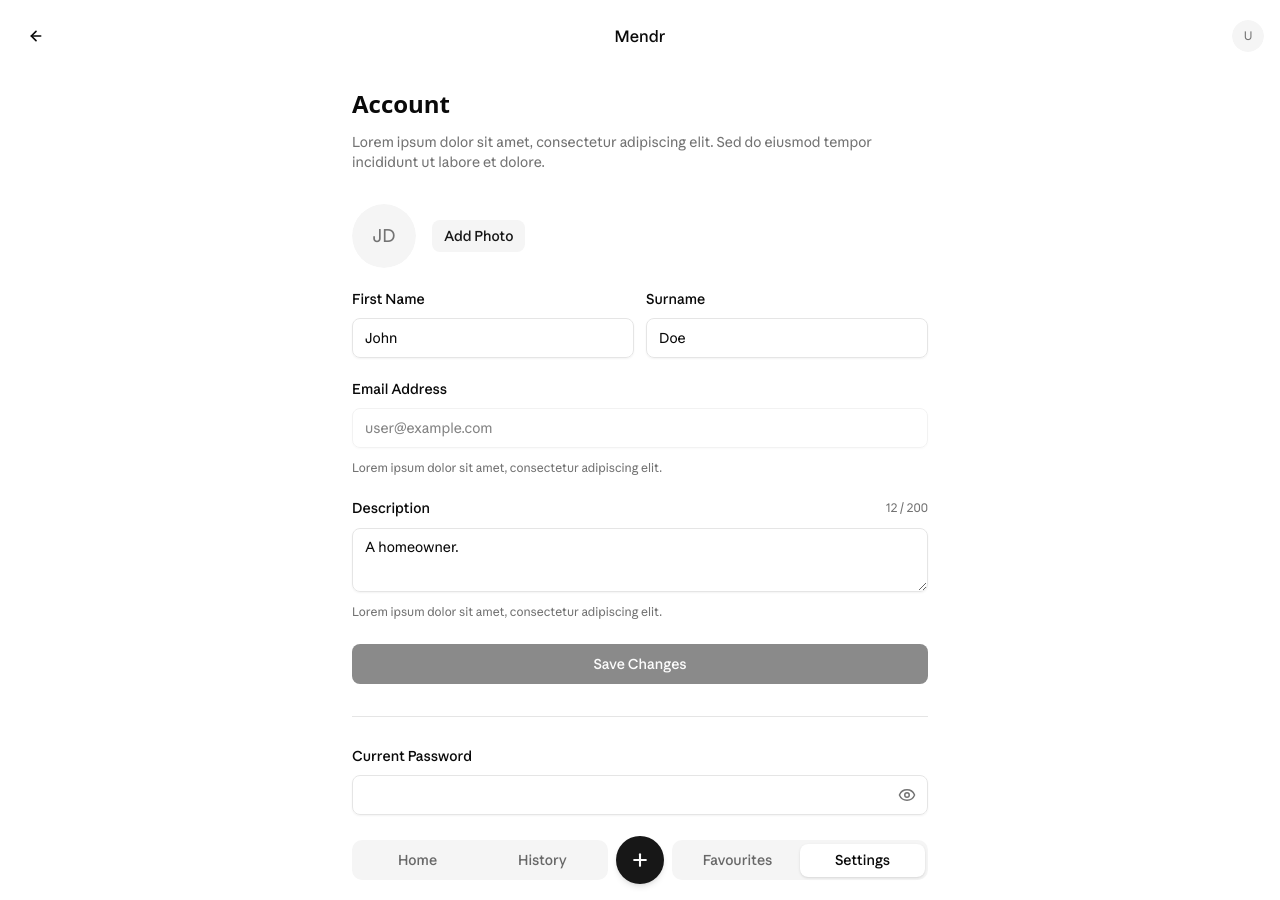
Scenario: settings/account/client.tsx › "Change Password" button is enabled when all password fields valid
Type "OldPass123" into the password field labelled "Current Password" at (640, 795), box x1=352 y1=775 x2=928 y2=815
(page scrolled)
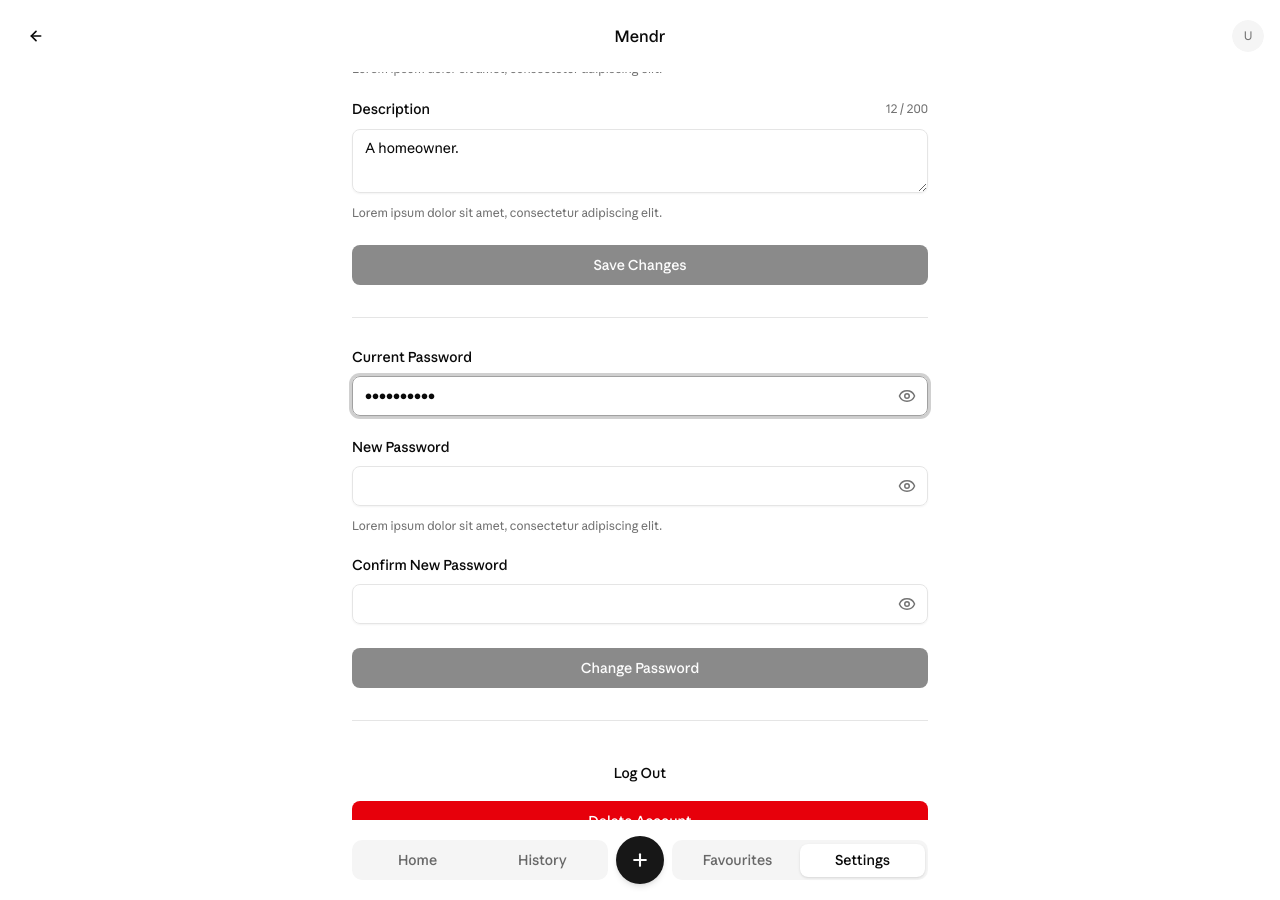
Type "NewPass456" into the password field labelled "New Password" at (640, 486), box x1=352 y1=466 x2=928 y2=506
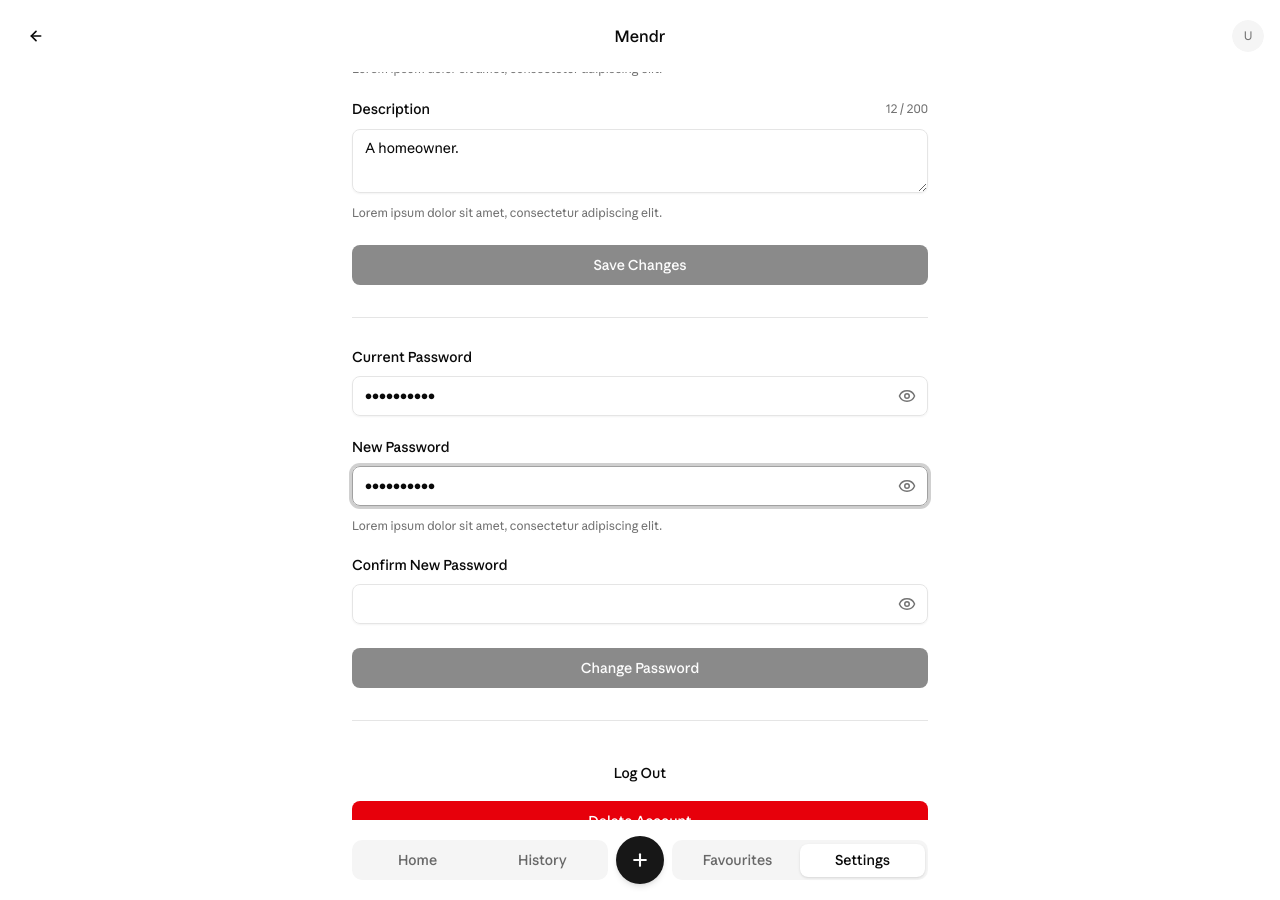
Type "NewPass456" into the password field labelled "Confirm New Password" at (640, 604), box x1=352 y1=584 x2=928 y2=624
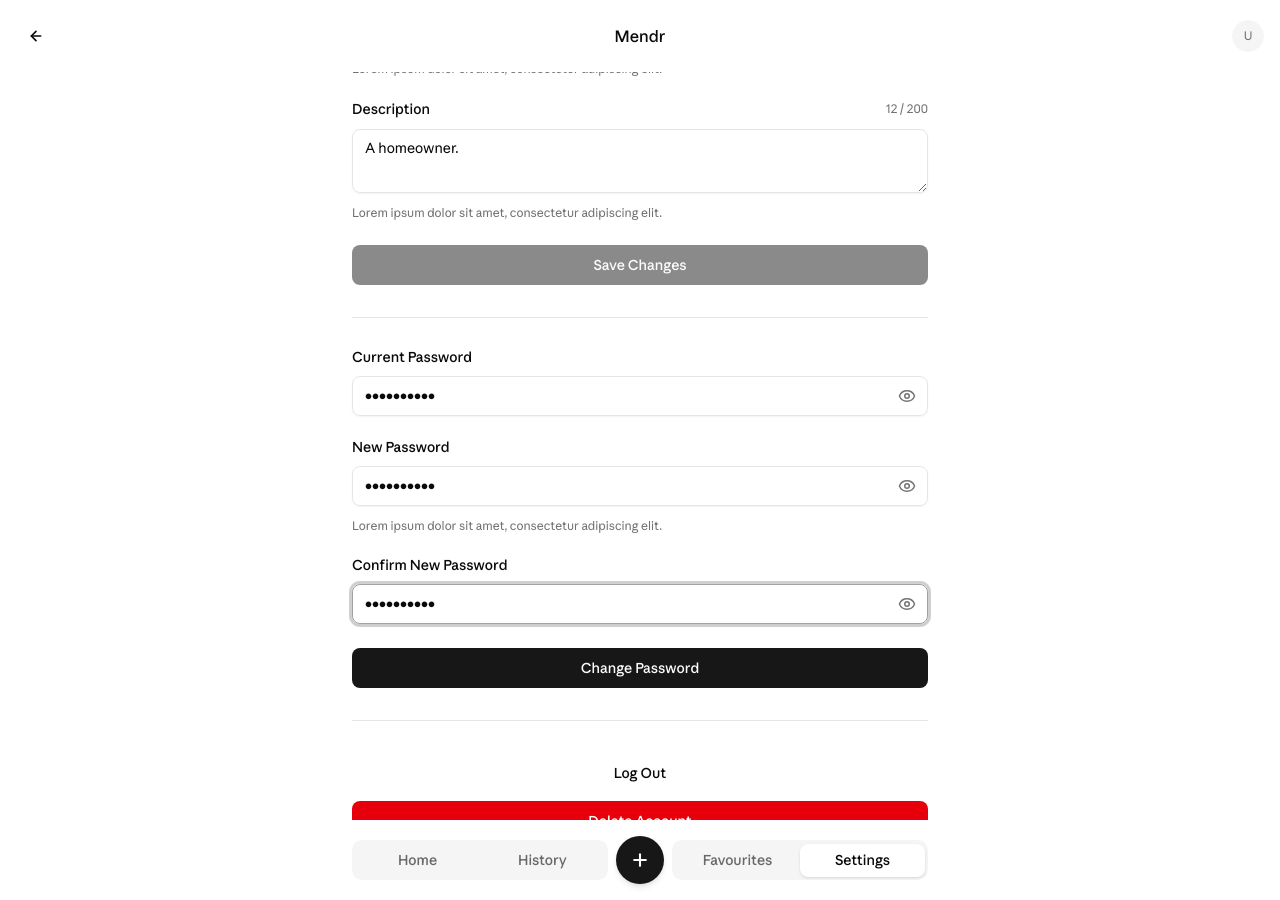
Expected: the button "Change Password" is enabled, x1=352 y1=648 x2=928 y2=688
